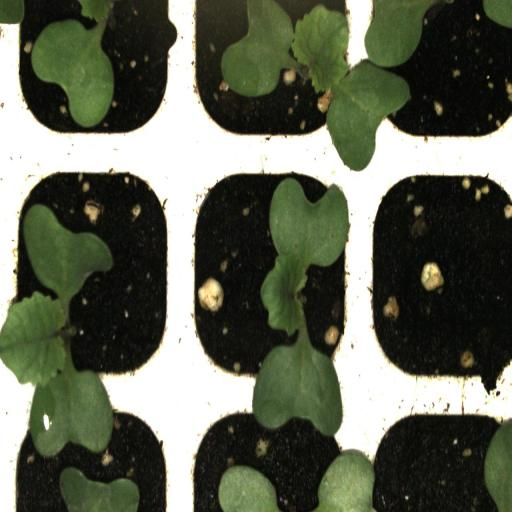Folha: (31, 0, 114, 128), (314, 450, 376, 512), (59, 467, 140, 512), (218, 464, 280, 512), (484, 422, 512, 512)
Germinacao: (7, 153, 184, 399), (176, 160, 361, 395), (184, 2, 361, 162)
